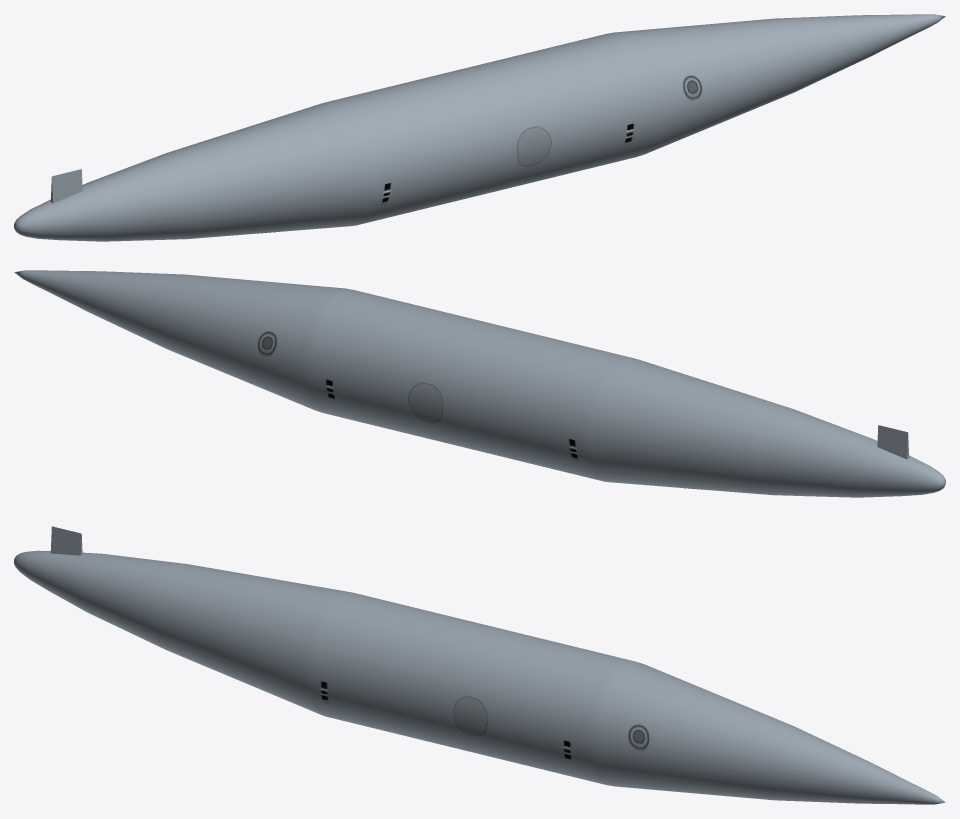
3 views of the same model, one above another, from view 1: azimuth 30°, elevation 25°; view 2: azimuth 150°, elevation 25°; view 3: azimuth 330°, elevation 25° (orthographic).
Visible parts, largest first — view 1: Cylinder.041; view 2: Cylinder.041; view 3: Cylinder.041.
Part boxes in pixels (x1,y1,x2,y2): Cylinder.041: [14, 14, 945, 241]; Cylinder.041: [14, 270, 945, 497]; Cylinder.041: [14, 526, 945, 804].
Bounding box in the file's own units: 6.55 × 0.7794 × 0.777.
1 material, 1 textured.
